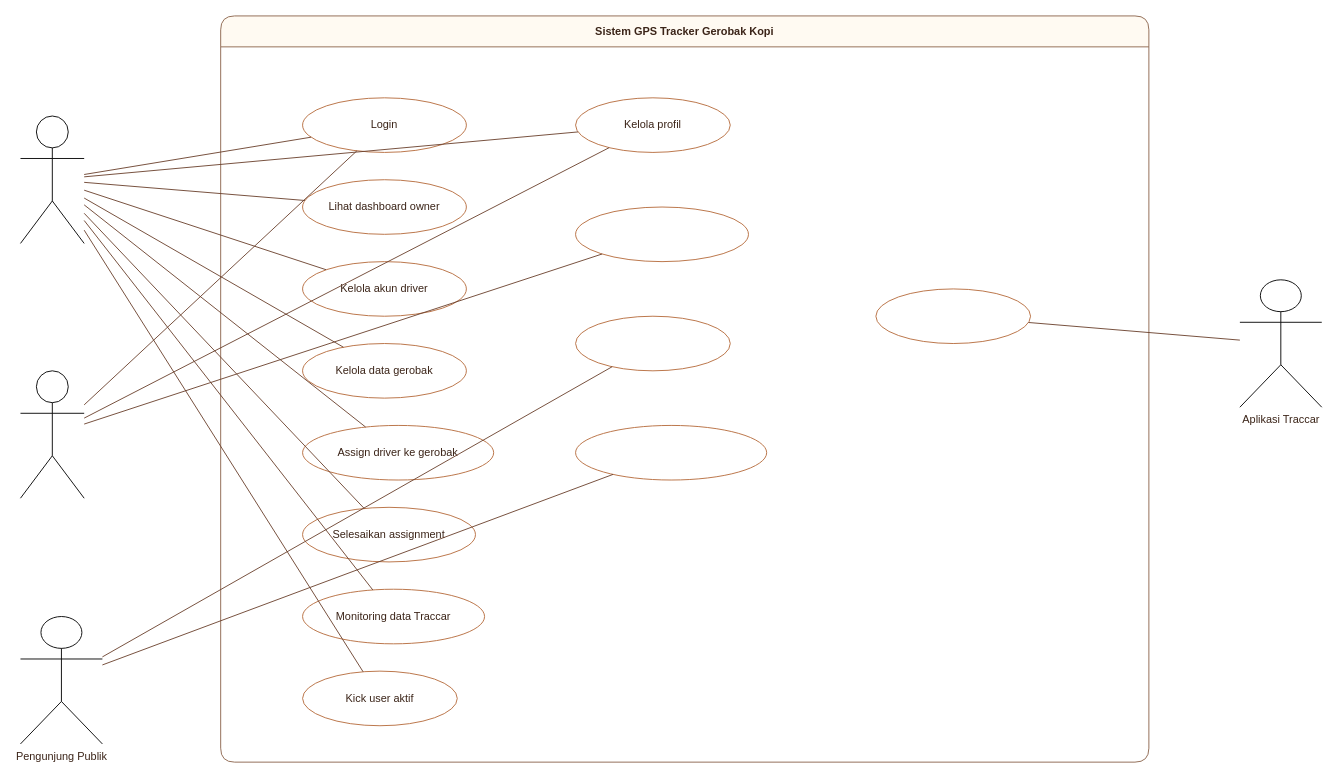
The diagram is 1338 pixels wide and 779 high, and some of its shapes have lost their labels. The box of each missing label's shape, as (x1, y1, x2, y2) in pixels:
Ambil data lokasi terbaru: (575, 425, 767, 480)
Driver: (20, 370, 84, 498)
Kirim lokasi GPS: (875, 288, 1031, 344)
Lihat dashboard driver: (575, 206, 748, 262)
Lihat peta publik: (575, 315, 730, 371)
Owner / Admin: (20, 115, 84, 243)
